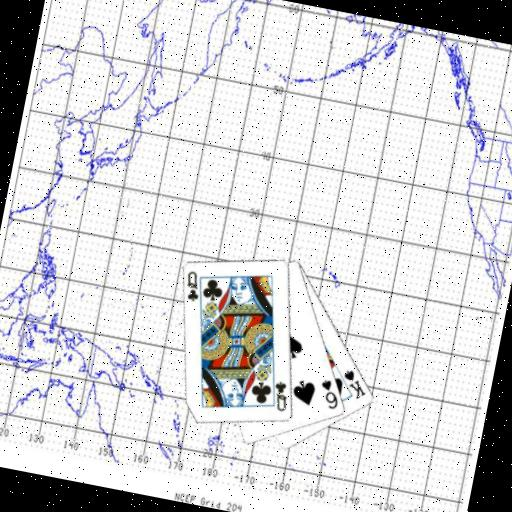6S: (314, 376, 344, 412)
KS: (337, 365, 372, 402)
QC: (268, 377, 294, 414), (180, 267, 205, 304)
